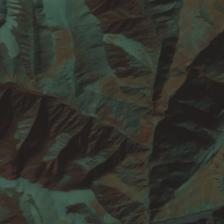landslides: (53, 108, 72, 133), (59, 113, 78, 133), (90, 129, 104, 154), (106, 132, 119, 147), (113, 201, 132, 211), (122, 83, 146, 90), (129, 178, 148, 185)
